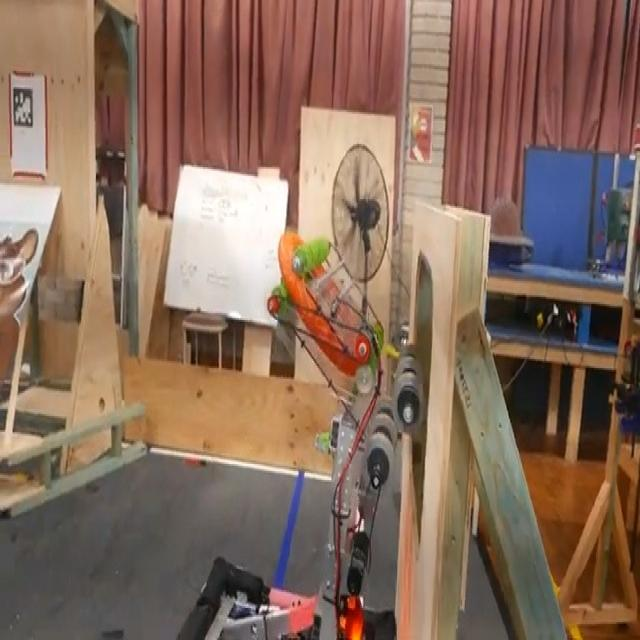note: (281, 231, 367, 372)
